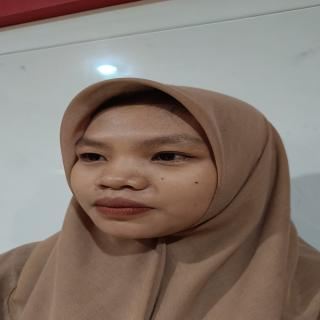Netral: (62, 88, 233, 244)
